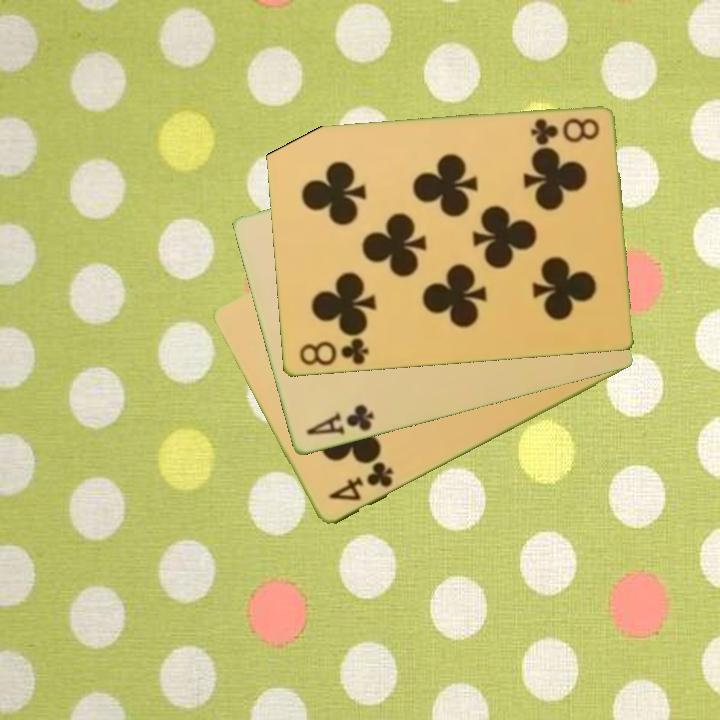4c: (325, 459, 397, 505)
8c: (295, 335, 372, 369), (526, 115, 602, 147)
Ac: (302, 401, 377, 439)
